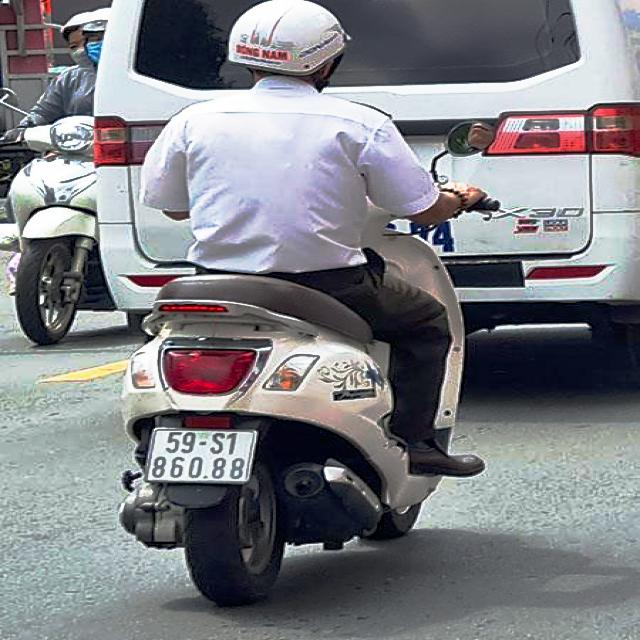license_plate: (147, 428, 257, 485)
